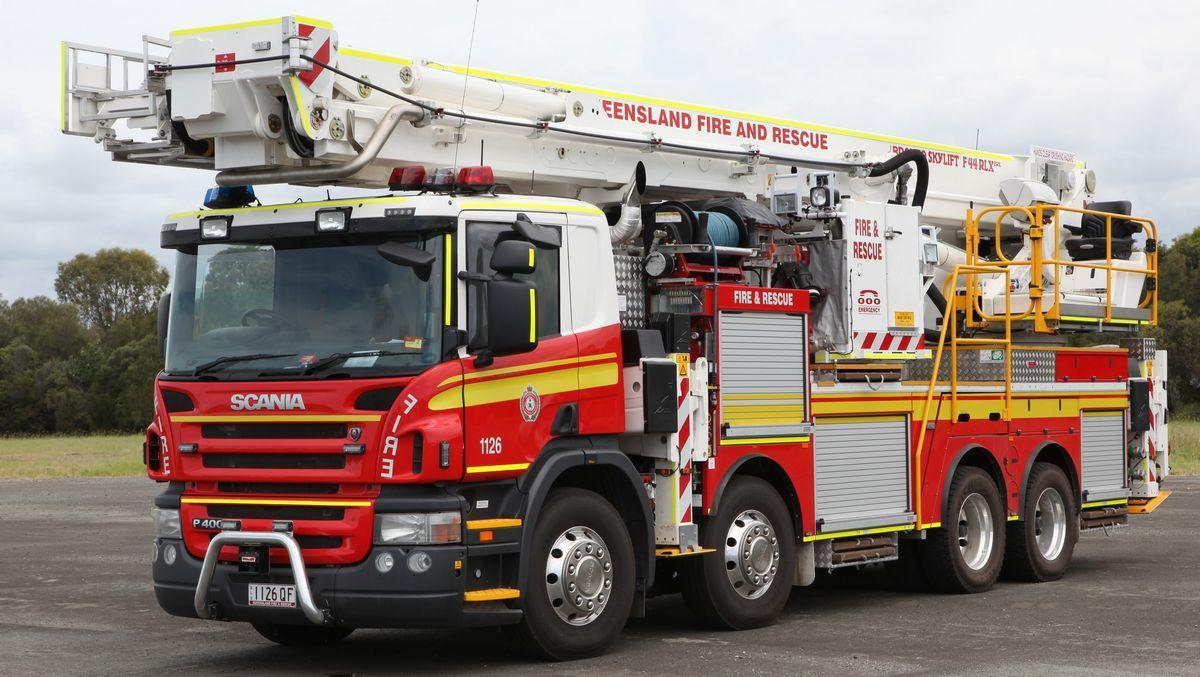Fire-engine: (72, 17, 1171, 664)
